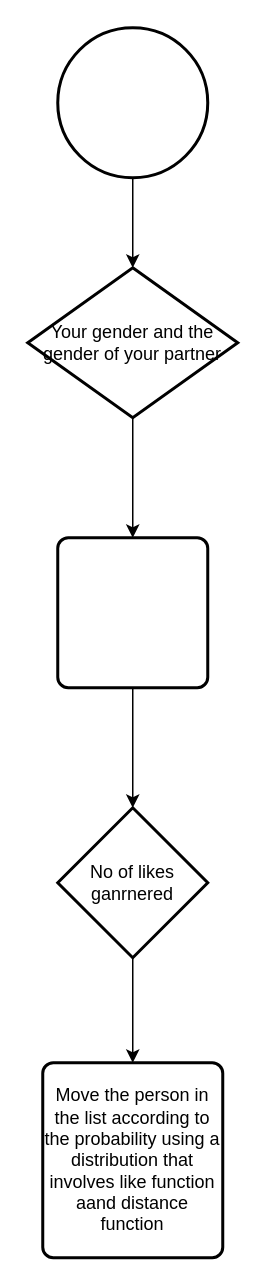
Image size: 264x1284. Some labels were removed from this diagram. The box of each missing label's shape, as (x1, y1, x2, y2) in pixels:
Include their profile in the top of recommendation list: (56, 536, 208, 688)
Registration (Phone number and email): (56, 26, 208, 178)
